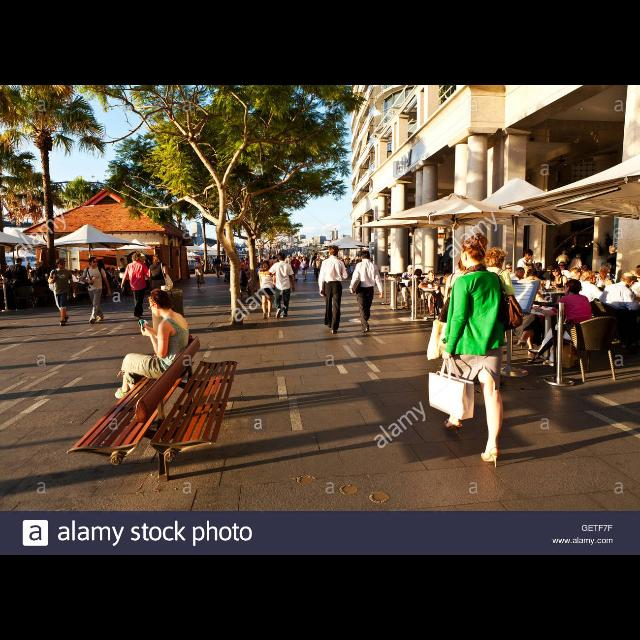head: (460, 238, 486, 268), (148, 289, 172, 317), (487, 250, 505, 268), (565, 279, 583, 297), (620, 273, 636, 289), (582, 270, 598, 286), (458, 258, 474, 272), (569, 267, 581, 281), (551, 266, 561, 278), (361, 250, 371, 262), (89, 256, 99, 268), (56, 260, 66, 270), (600, 266, 608, 278), (329, 247, 338, 257), (525, 250, 533, 260), (428, 272, 436, 282), (278, 252, 286, 262), (133, 254, 143, 262), (558, 262, 566, 270), (263, 261, 271, 269), (153, 256, 161, 264), (15, 258, 22, 266), (610, 246, 616, 254), (416, 270, 422, 278), (408, 267, 414, 275), (576, 254, 582, 260), (241, 264, 247, 270), (562, 251, 568, 255), (121, 258, 125, 264), (314, 253, 318, 257), (302, 258, 306, 262), (196, 258, 200, 262), (318, 255, 320, 259), (294, 256, 296, 260), (218, 256, 220, 258), (210, 258, 212, 260)
person: (424, 232, 526, 470), (426, 248, 494, 388), (462, 244, 526, 392), (114, 286, 190, 402), (527, 278, 595, 370), (348, 250, 386, 334), (569, 270, 615, 336), (317, 244, 349, 336), (258, 252, 296, 321), (118, 253, 154, 321), (80, 256, 112, 326), (562, 267, 594, 323), (54, 257, 78, 329), (148, 254, 175, 310), (516, 248, 538, 314), (544, 265, 568, 323), (256, 259, 278, 321), (418, 270, 446, 318), (5, 258, 29, 312), (591, 266, 615, 316), (400, 264, 424, 310), (406, 268, 430, 312), (603, 244, 621, 294), (554, 262, 572, 302), (568, 253, 584, 294), (192, 256, 208, 292), (555, 250, 571, 282), (238, 262, 254, 294), (117, 257, 129, 289), (312, 254, 324, 282), (310, 252, 320, 278), (290, 256, 300, 282), (213, 256, 223, 278), (300, 257, 308, 283), (210, 256, 217, 276)
